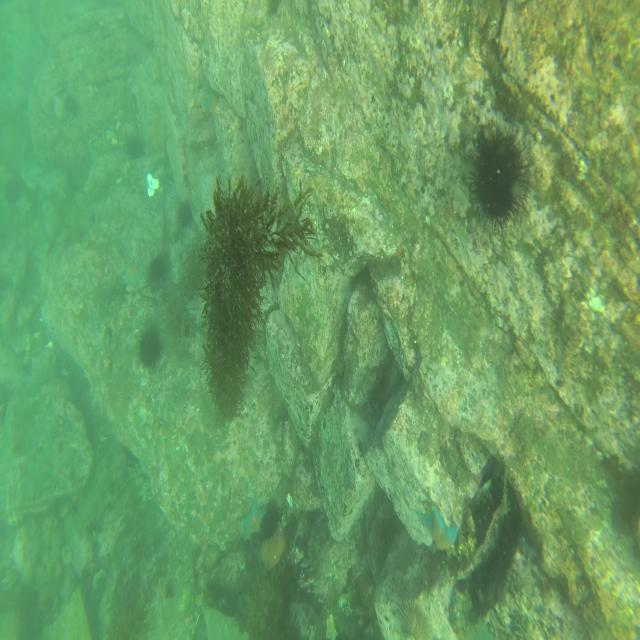echinus: (462, 116, 530, 236), (393, 593, 429, 640), (136, 328, 163, 372), (258, 498, 281, 540), (146, 251, 168, 283), (125, 133, 144, 166), (177, 196, 196, 228)
starfish: (418, 504, 458, 556), (238, 500, 264, 544), (202, 86, 222, 119), (122, 261, 142, 289)
